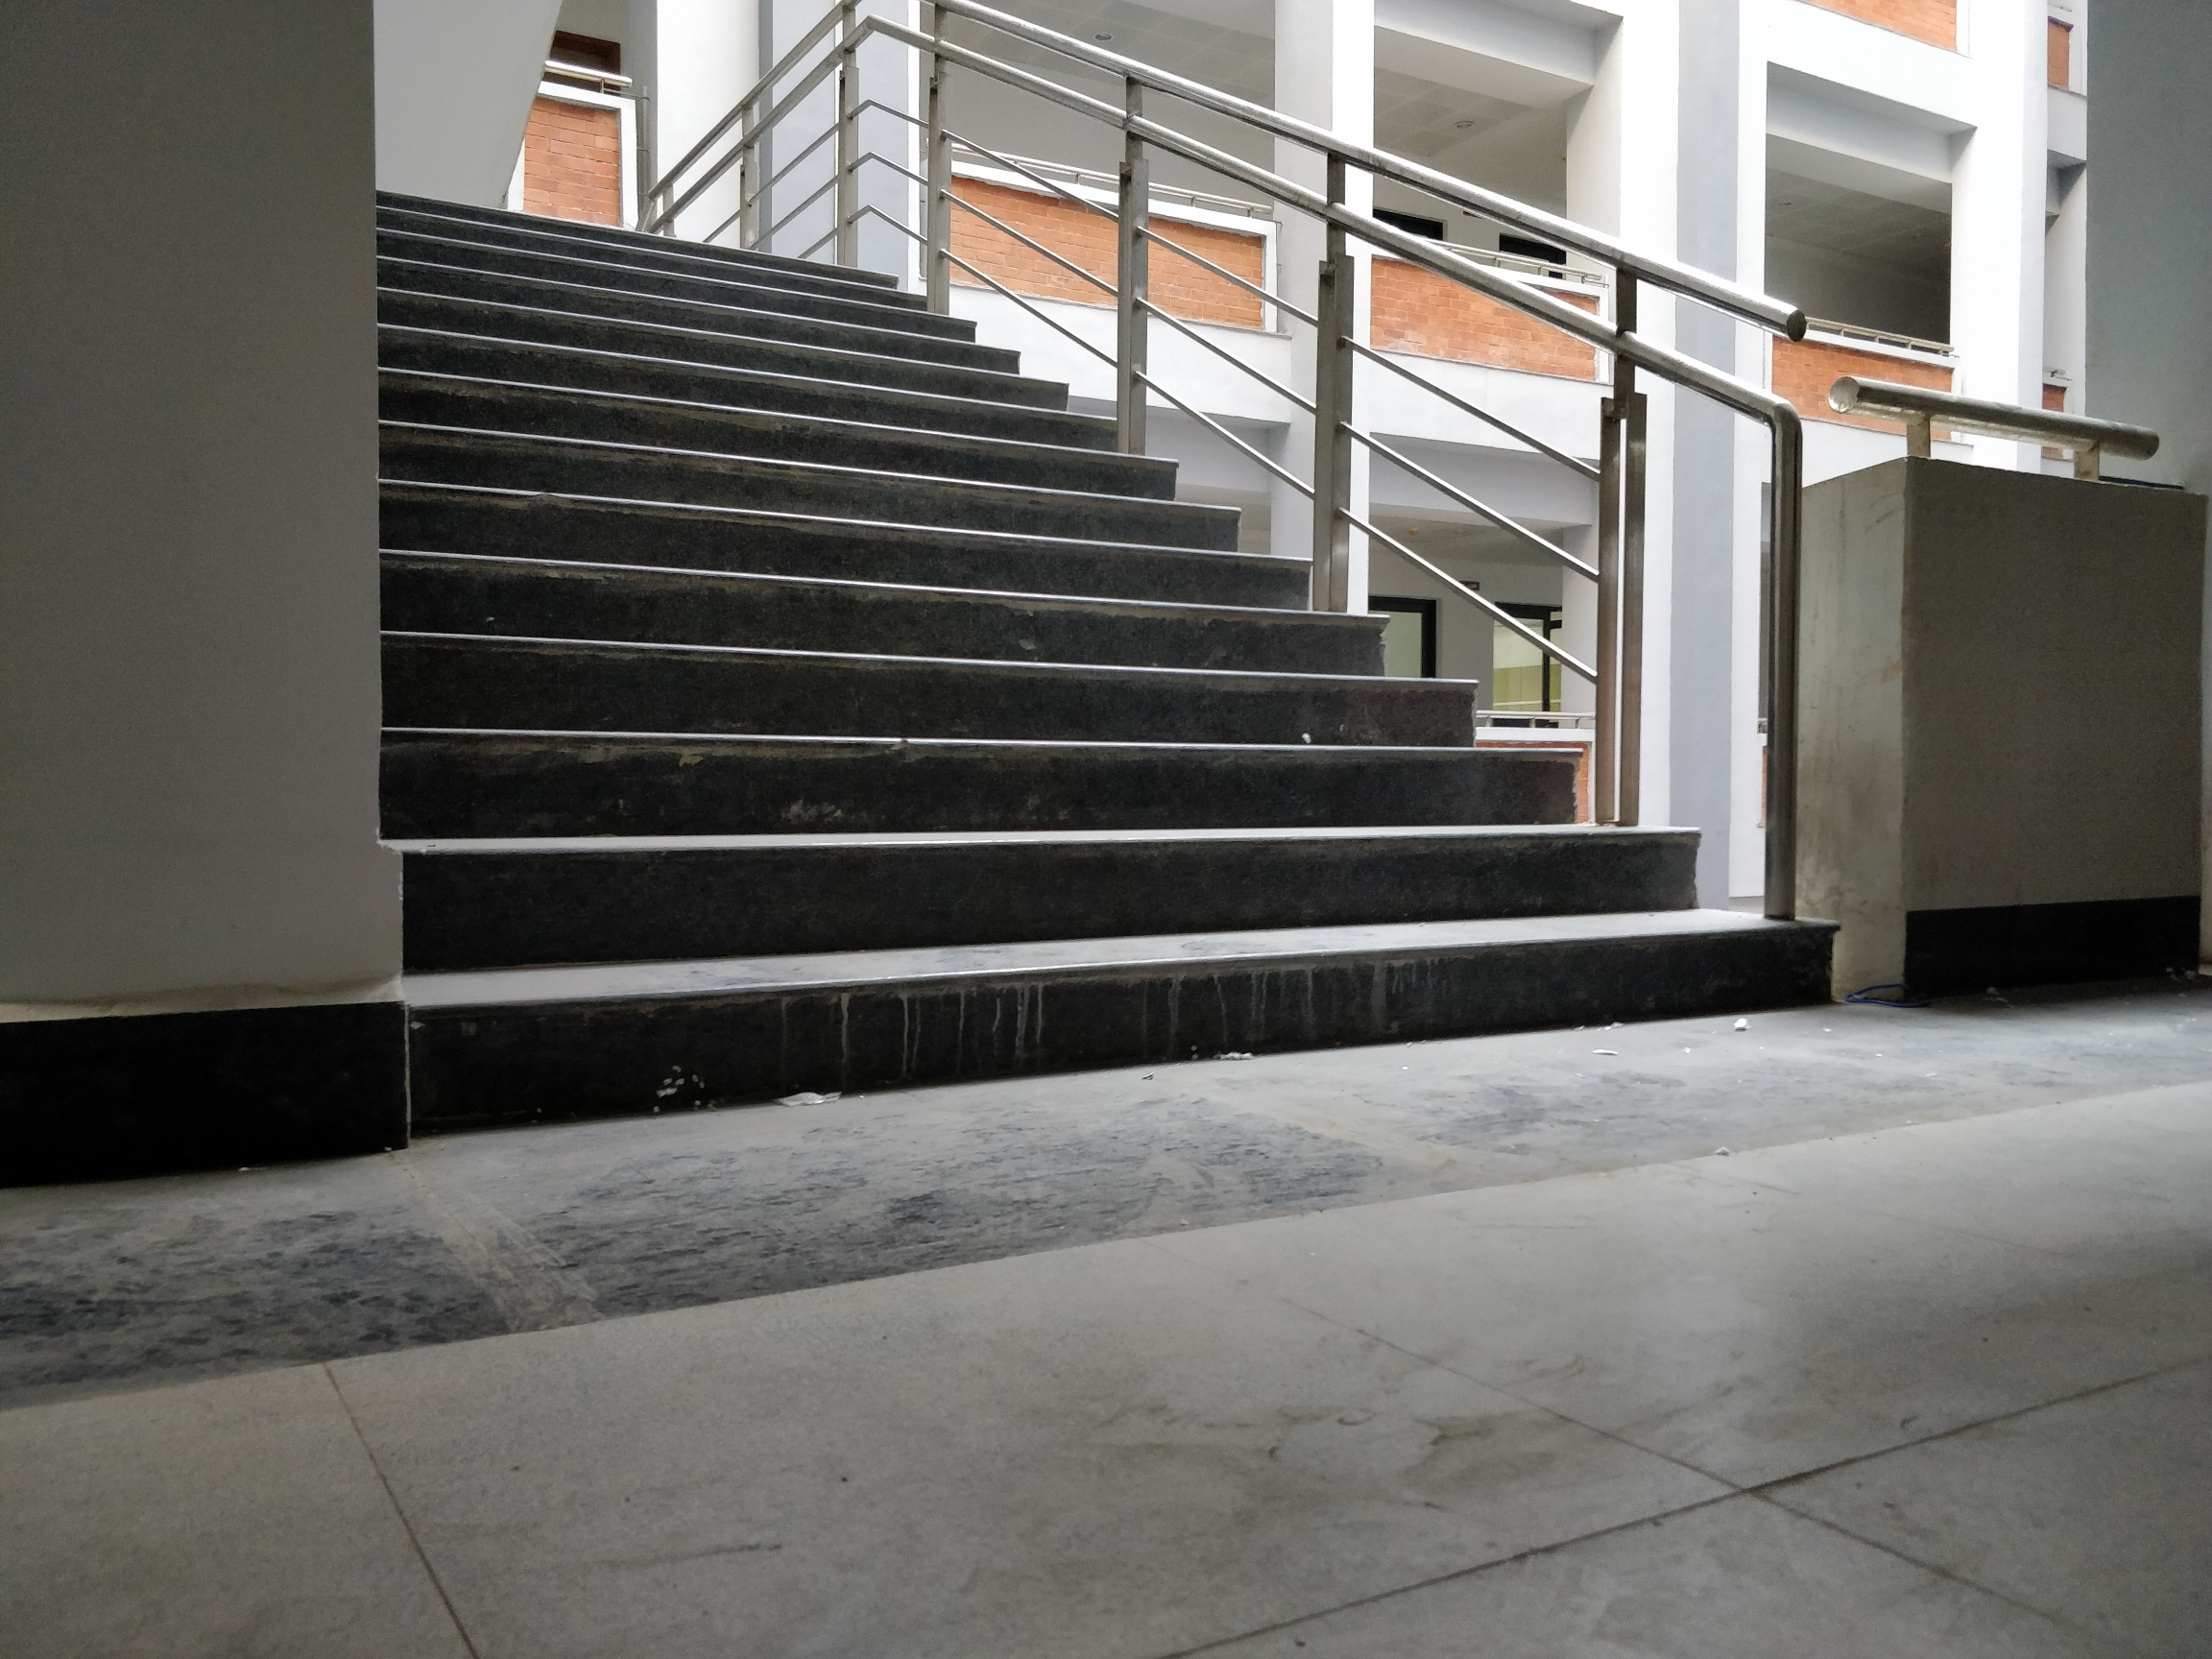stairs_up: (373, 176, 1686, 1073)
